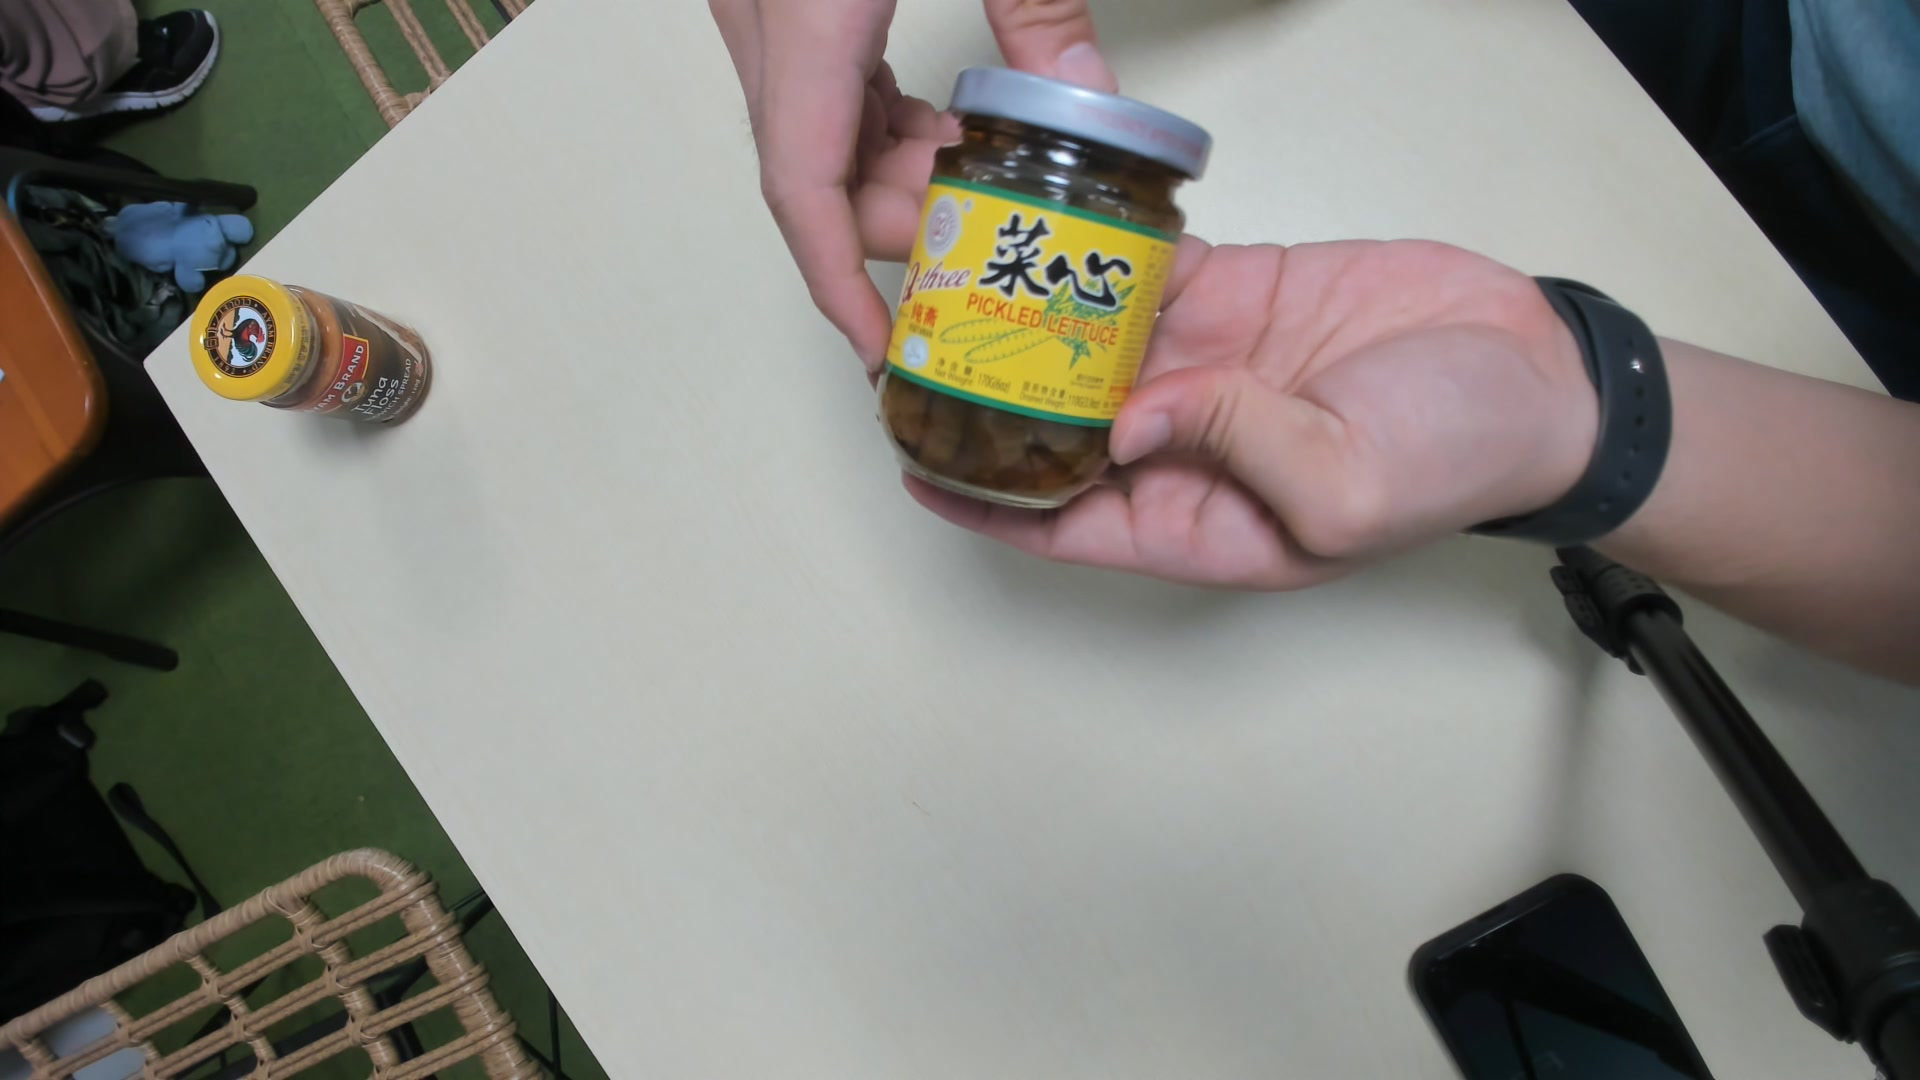OtherSauceDressing_200-299g_Halal_NonHealthy: (877, 65, 1216, 516)
